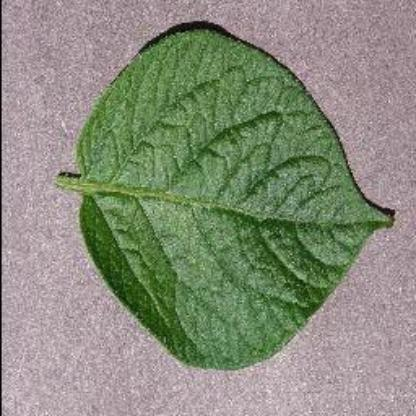Healthy-plant: (55, 22, 390, 372)
